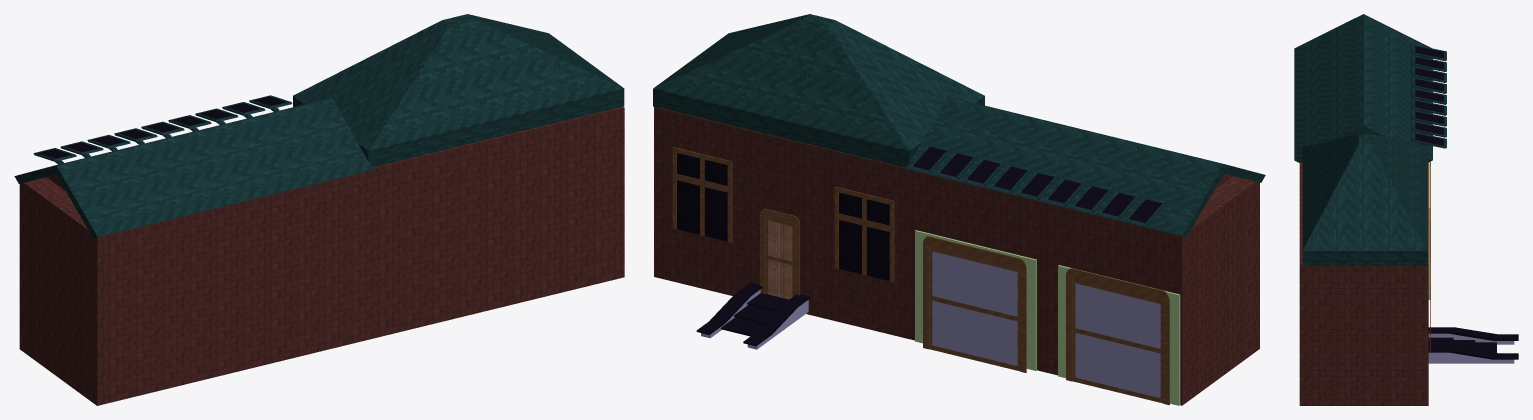
File: Medium_Expensive_house_1.glb
3 views of the same model, side by side, from view 1: azimuth 30°, elevation 25°; view 2: azimuth 150°, elevation 25°; view 3: azimuth 270°, elevation 25° (orthographic). The views are drawn at different scales.
Parts seen in each view (by area): view 1: mergedBlocks(Clone); view 2: mergedBlocks(Clone); view 3: mergedBlocks(Clone).
Boxes of the visible parts, <box> form: mergedBlocks(Clone): <box>14,14,624,405</box>; mergedBlocks(Clone): <box>653,14,1265,405</box>; mergedBlocks(Clone): <box>1294,14,1518,405</box>.
Bounding box in the file's own units: 19.72 × 9.34 × 8.69.
Materials: 8 (5 with a texture image).
